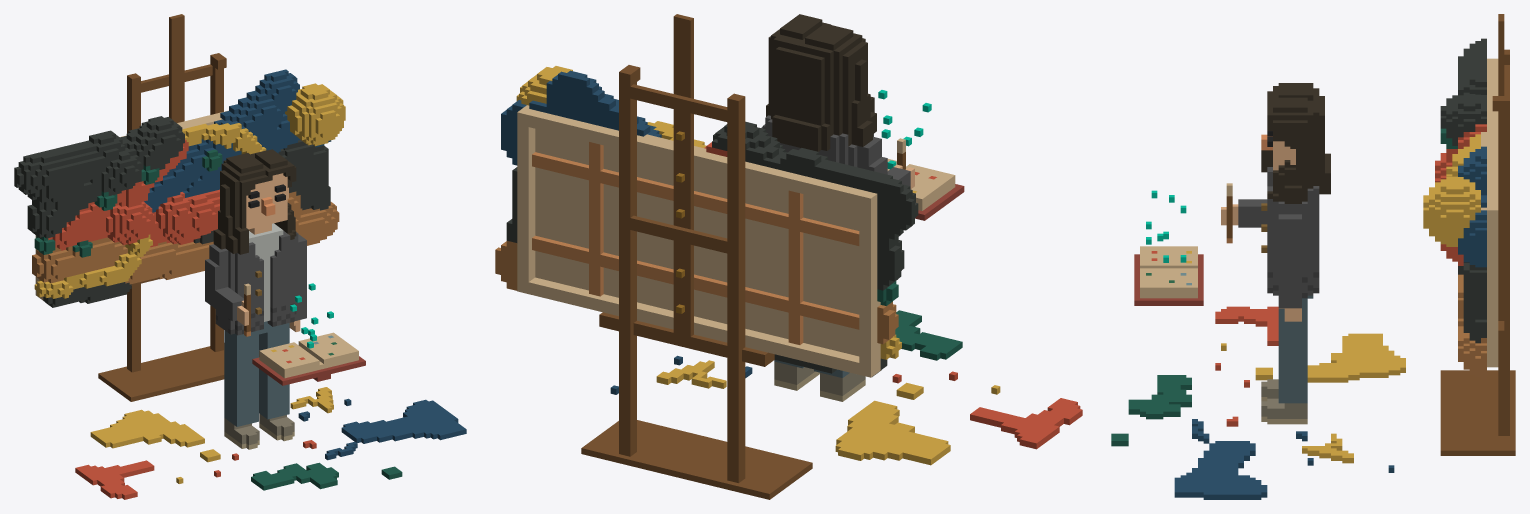
The model's file is yeon.gltf.
The picture shows the model from 3 angles, left to right: view 1: azimuth 30°, elevation 25°; view 2: azimuth 150°, elevation 25°; view 3: azimuth 270°, elevation 25°; orthographic projection. The views are drawn at different scales.
Visible parts, largest first — view 1: new.vox-0; view 2: new.vox-0; view 3: new.vox-0.
Boxes of the visible parts, left/top/right/bottom form: new.vox-0: left=14, top=14, right=466, bottom=499; new.vox-0: left=495, top=14, right=1082, bottom=499; new.vox-0: left=1111, top=14, right=1515, bottom=499.
Bounding box in the file's own units: 7.7 × 7.6 × 7.
Materials: 1 (1 with a texture image).
